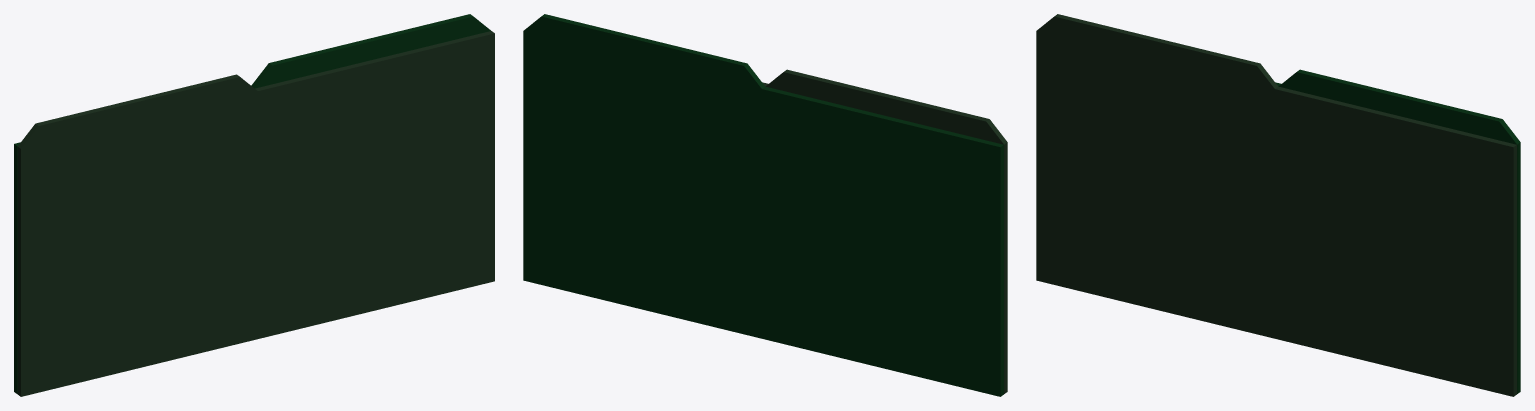
The model's file is BLACKBOARD.fbx.
The picture shows the model from 3 angles, left to right: view 1: azimuth 30°, elevation 25°; view 2: azimuth 150°, elevation 25°; view 3: azimuth 330°, elevation 25°; orthographic projection.
Visible parts, largest first — view 1: BOARD_01, BOARD_02; view 2: BOARD_02, BOARD_01; view 3: BOARD_01, BOARD_02.
Part boxes in pixels (x1,y1,x2,y2): BOARD_01: (17,31,494,396); BOARD_02: (14,14,490,393); BOARD_02: (523,14,1003,396); BOARD_01: (762,69,1007,393); BOARD_01: (1036,14,1516,396); BOARD_02: (1275,69,1520,393).
Bounding box in the file's own units: 800 × 430 × 20.47.
